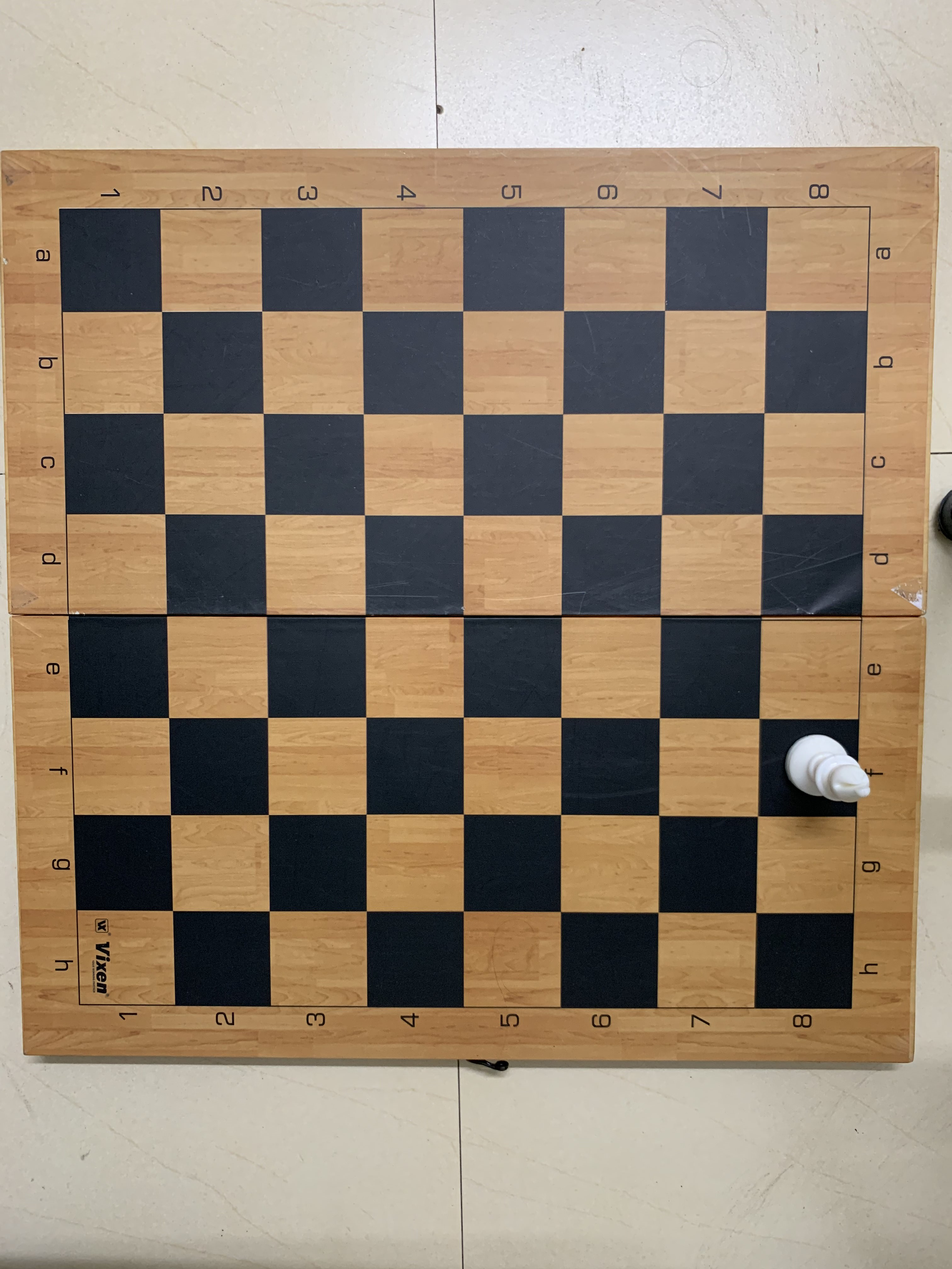white_bishop: (754, 716, 869, 814)
